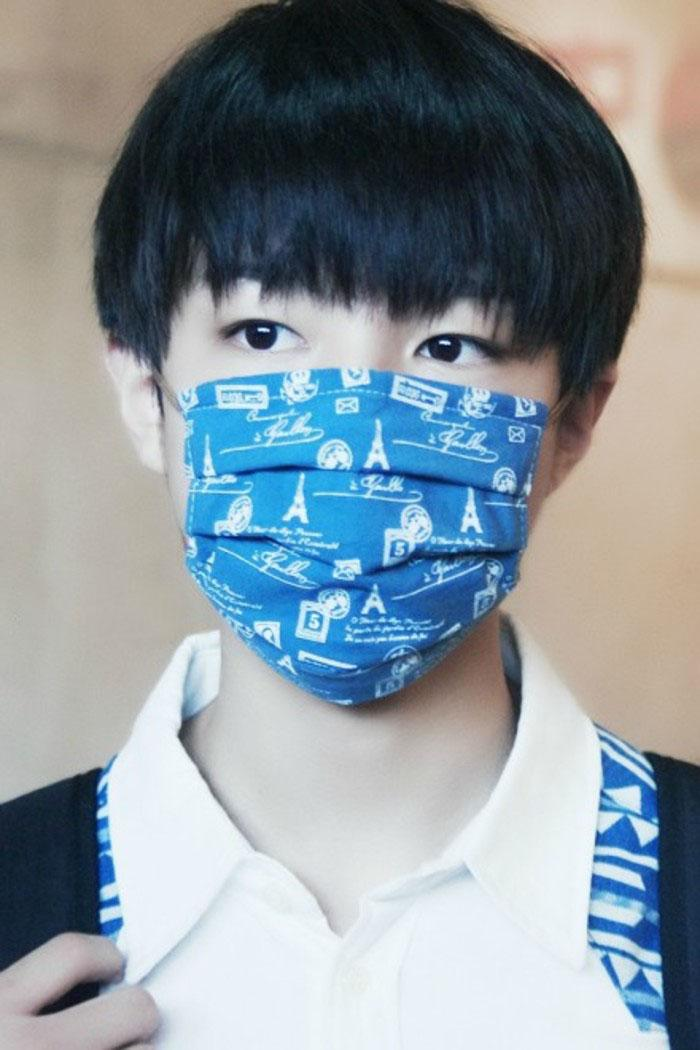OK: (152, 250, 579, 677)
